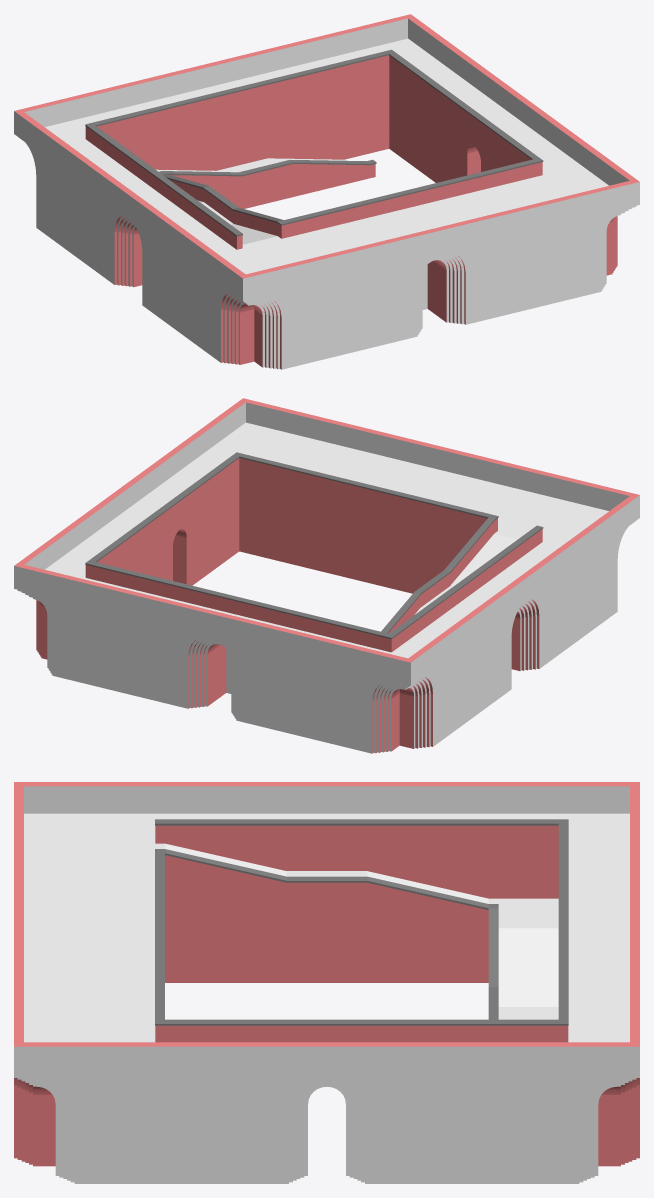
3 views of the same model, one above another, from view 1: azimuth 30°, elevation 25°; view 2: azimuth 150°, elevation 25°; view 3: azimuth 270°, elevation 25° (orthographic). The views are drawn at different scales.
Visible parts, largest first — view 1: mass; view 2: mass; view 3: mass.
Boxes of the visible parts, x1,y1,x2,y2 form: mass: [14, 14, 639, 369]; mass: [14, 398, 639, 753]; mass: [14, 782, 639, 1183].
Size of what is drawn, in the model's own units: 31 by 7.5 by 31.
